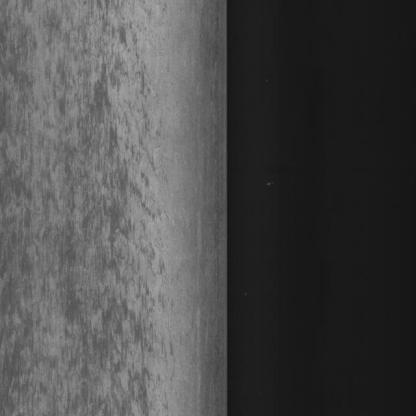silk_spot: (0, 7, 176, 394)
